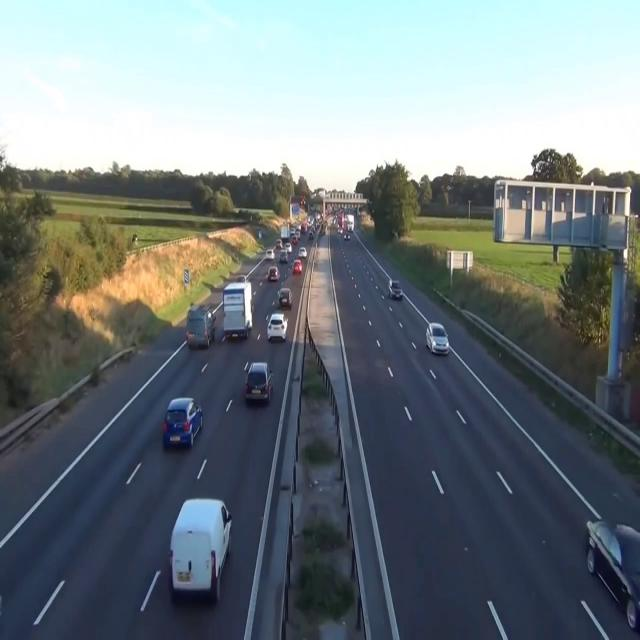belum terisi: (166, 486, 242, 600), (581, 499, 640, 640), (158, 388, 210, 465), (239, 348, 275, 422), (220, 272, 258, 340), (422, 312, 452, 369), (188, 298, 215, 356), (262, 304, 291, 348), (386, 274, 406, 304)
